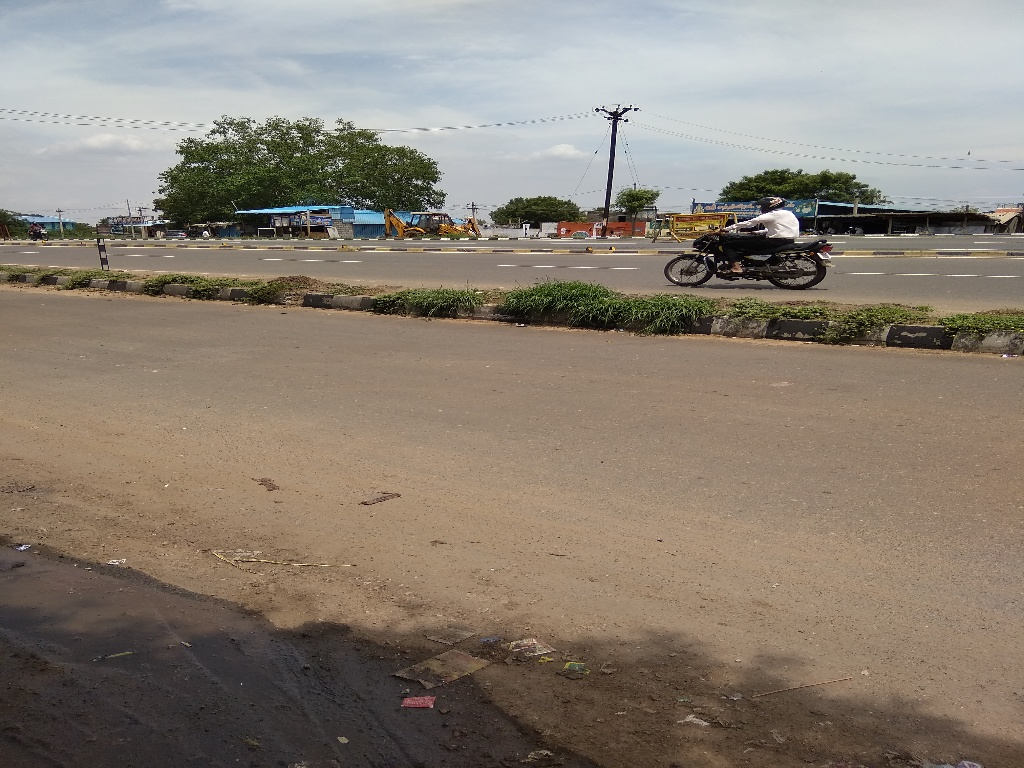biker: (656, 166, 841, 296)
helmet: (753, 184, 791, 224)
